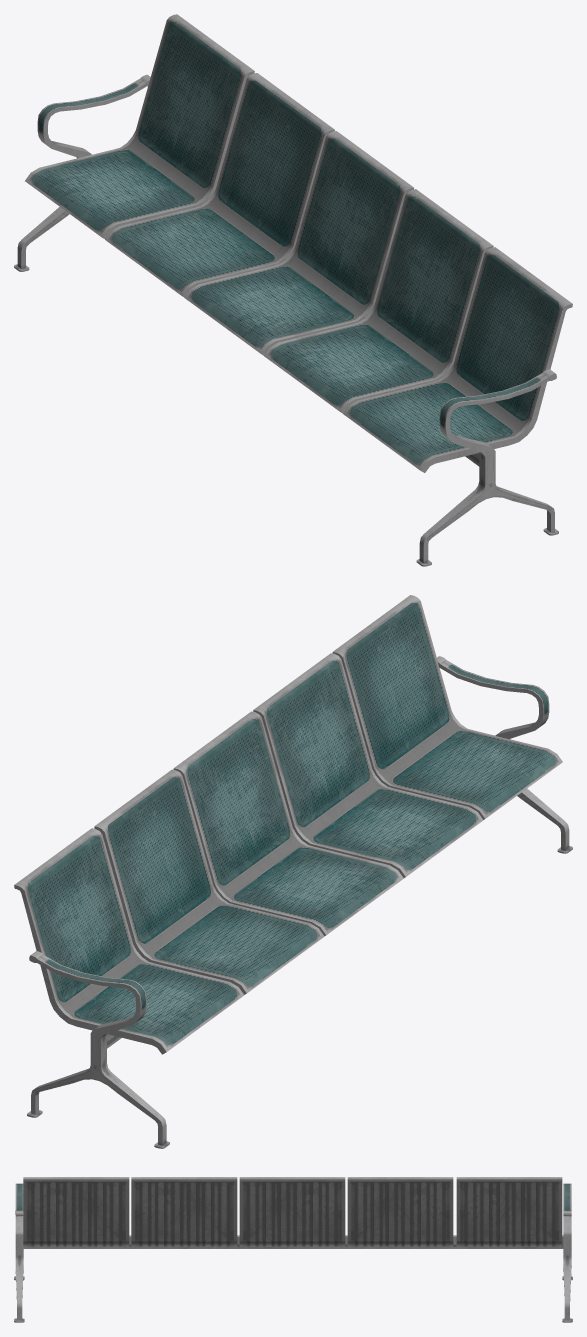
Rendered from HH_Public_Seating_01.fbx.
The picture shows the model from 3 angles, top to bottom: view 1: azimuth 30°, elevation 25°; view 2: azimuth 150°, elevation 25°; view 3: azimuth 270°, elevation 25°; orthographic projection. The views are drawn at different scales.
Visible parts, largest first — view 1: HH_Public_Seating_01_LOD0; view 2: HH_Public_Seating_01_LOD0; view 3: HH_Public_Seating_01_LOD0.
Boxes of the visible parts, left/top/right/bottom form: HH_Public_Seating_01_LOD0: left=14, top=14, right=572, bottom=566; HH_Public_Seating_01_LOD0: left=14, top=595, right=572, bottom=1148; HH_Public_Seating_01_LOD0: left=14, top=1177, right=572, bottom=1322.
Size of what is drawn, in the model's own units: 72.21 by 96.97 by 328.
